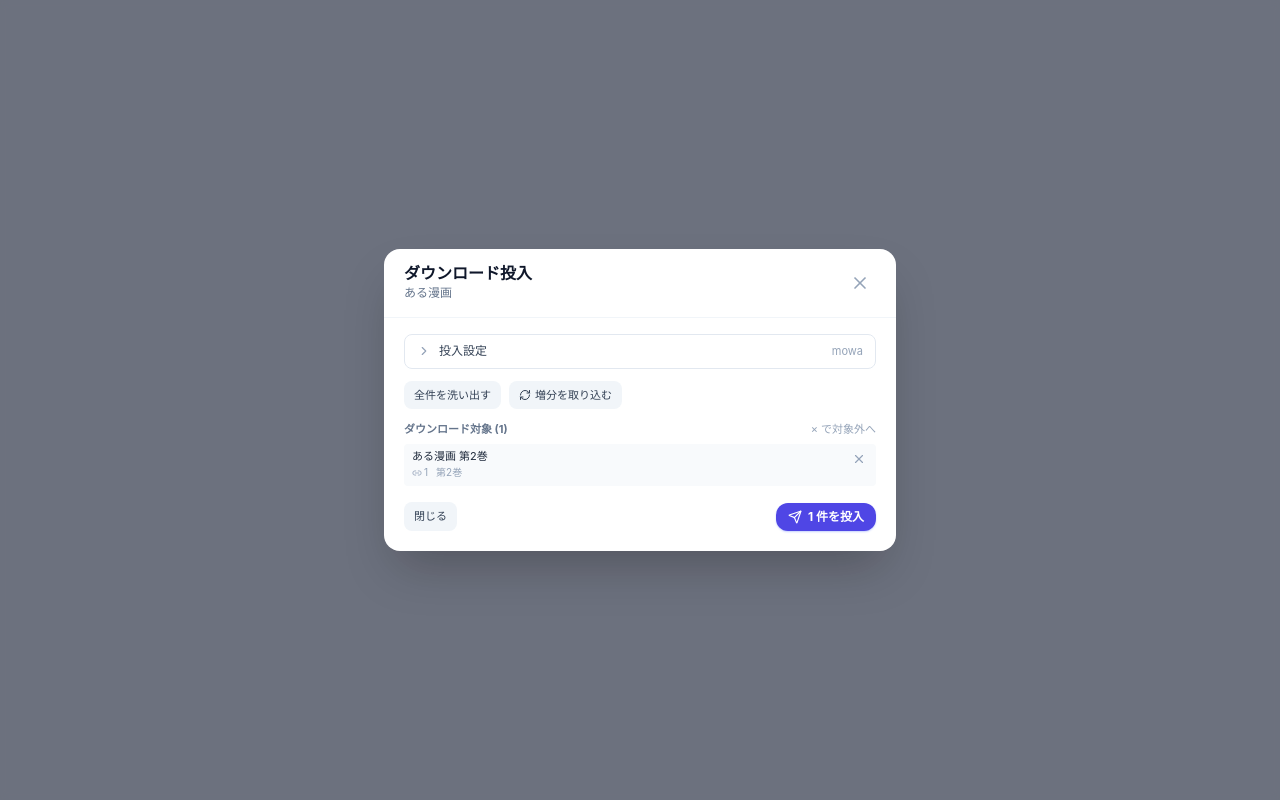
Scenario: 投入設定 › 失敗が混じったら閉じずに理由を残す
Click the button "1 件を投入". click: point(826, 517)
box: [776,503,876,531]
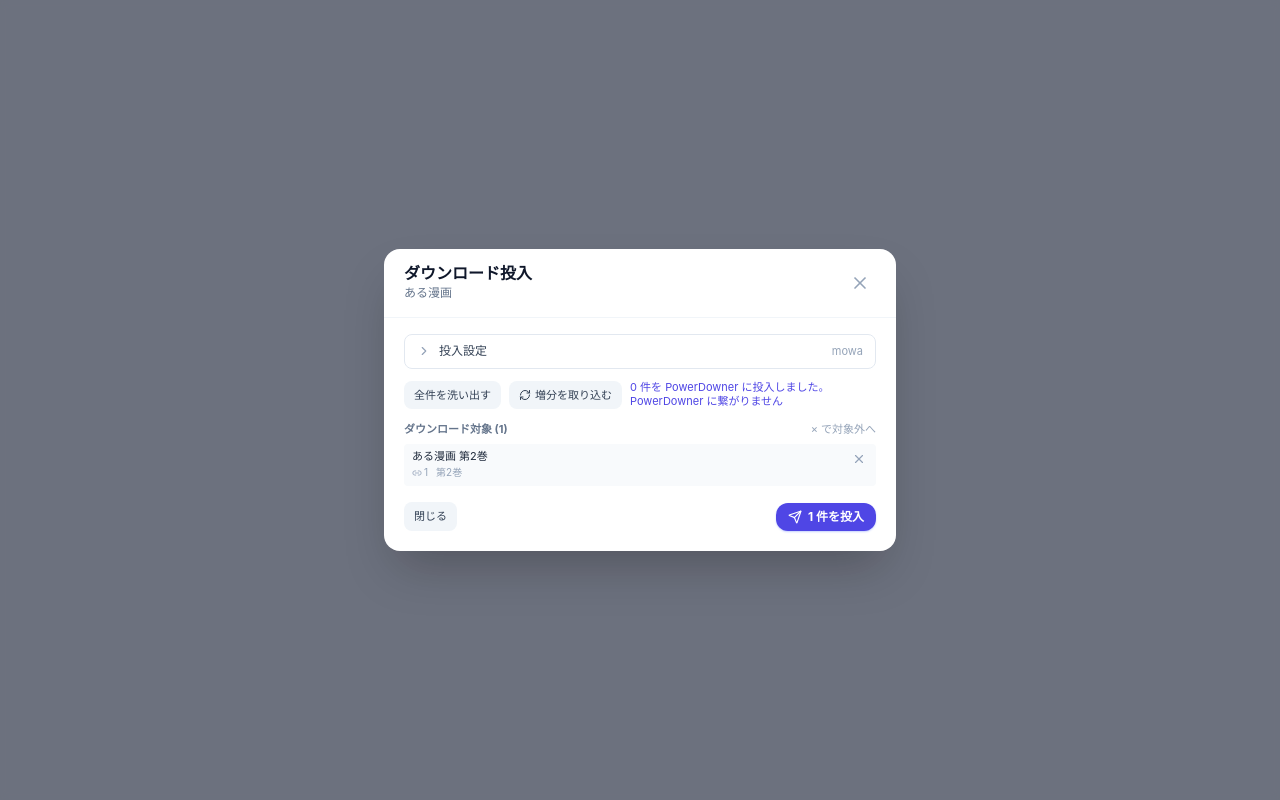
Check: the text "0 件を PowerDowner に投入しました。PowerDowner に繋がりません" is shown, box [630,380,830,408]
